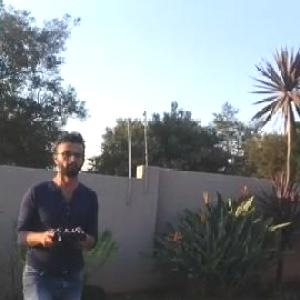follow: (14, 128, 106, 299)
